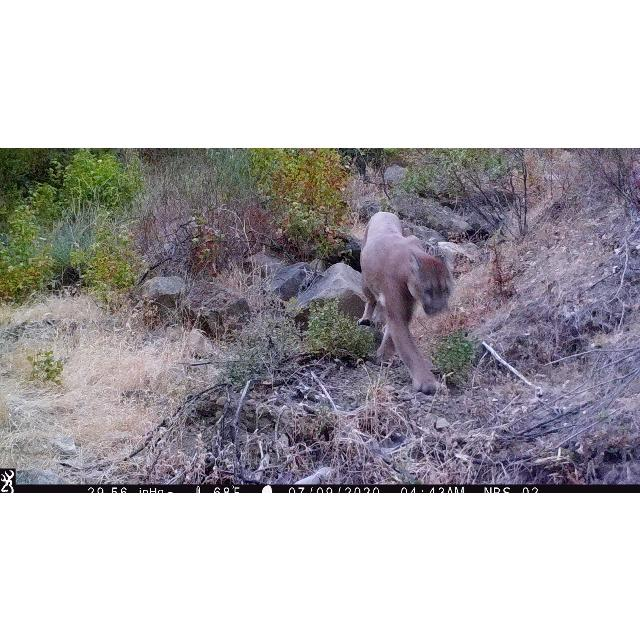animals: (358, 208, 457, 398)
